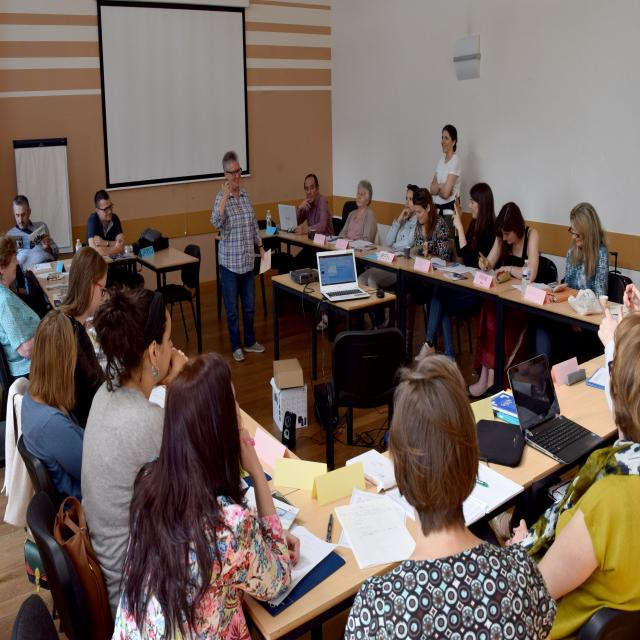body: (106, 352, 346, 640), (340, 349, 554, 640), (491, 306, 640, 640), (80, 287, 188, 625), (413, 180, 504, 376), (465, 201, 540, 400), (210, 148, 274, 364), (20, 309, 86, 513), (536, 202, 612, 364), (381, 187, 452, 358), (354, 183, 421, 333), (57, 246, 111, 431), (315, 180, 378, 332), (0, 236, 50, 386), (284, 172, 335, 318), (85, 188, 146, 295), (5, 195, 60, 304), (597, 276, 639, 414), (429, 124, 462, 239)
